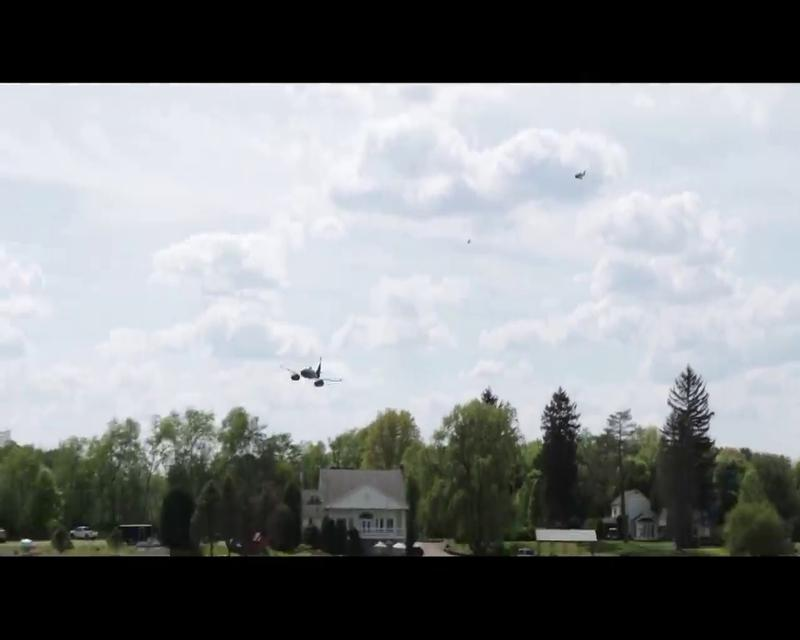UAV: (279, 356, 341, 388), (574, 167, 589, 182)
